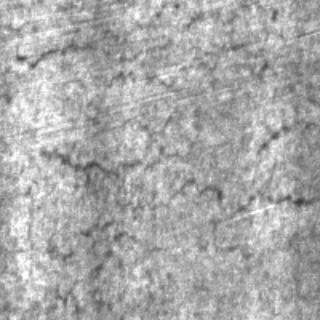crazing: (41, 120, 316, 212), (12, 34, 268, 98), (44, 214, 168, 310)
